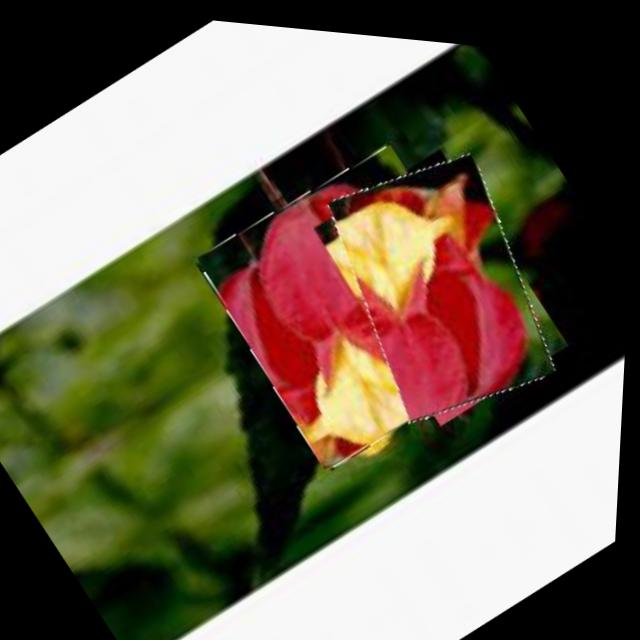Flower: (189, 118, 538, 482), (292, 115, 596, 441)
